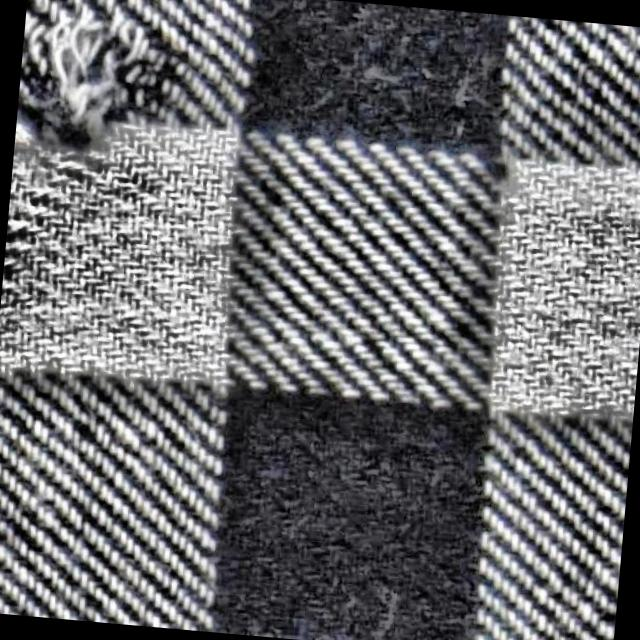cut: (14, 0, 236, 160)
